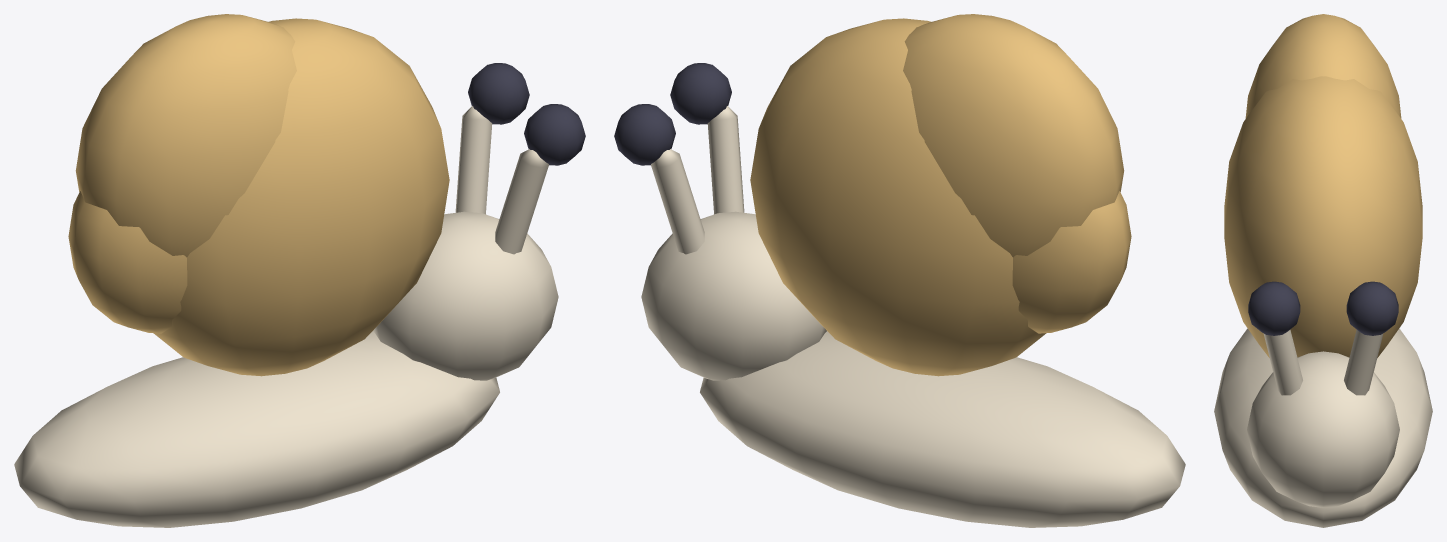
Rendered from snail.glb.
3 renders of one model, left to right at view 1: azimuth 30°, elevation 25°; view 2: azimuth 150°, elevation 25°; view 3: azimuth 270°, elevation 25°, orthographic. The views are drawn at different scales.
Visible parts, largest first — view 1: Shell0, Foot, Shell1, Head, Shell2, StalkLeft, StalkRight, EyeRight, EyeLeft; view 2: Shell0, Foot, Shell1, Head, Shell2, StalkRight, StalkLeft, EyeLeft, EyeRight; view 3: Shell0, Head, Foot, Shell1, EyeLeft, EyeRight, StalkLeft, StalkRight.
Part boxes in pixels (x1,y1,x2,y2): Shell0: (154, 18, 449, 376); Foot: (14, 331, 499, 527); Shell1: (75, 14, 296, 257); Head: (373, 211, 558, 380); Shell2: (68, 191, 187, 333); StalkLeft: (495, 149, 548, 254); StalkRight: (455, 106, 492, 214); EyeRight: (468, 63, 529, 124); EyeLeft: (524, 104, 585, 165); Shell0: (750, 18, 1045, 376); Foot: (700, 331, 1185, 527); Shell1: (903, 14, 1124, 257); Head: (641, 211, 826, 380); Shell2: (1012, 191, 1131, 333); StalkRight: (651, 149, 704, 254); StalkLeft: (707, 106, 744, 214); EyeLeft: (670, 63, 731, 124); EyeRight: (614, 104, 675, 165); Shell0: (1224, 76, 1422, 357); Head: (1247, 351, 1399, 507); Foot: (1214, 328, 1432, 527); Shell1: (1245, 14, 1401, 118); EyeLeft: (1248, 281, 1300, 335); EyeRight: (1346, 281, 1398, 335); StalkLeft: (1263, 330, 1302, 395); StalkRight: (1344, 330, 1383, 395).
Bounding box in the file's own units: 0.99 × 0.86 × 0.4.
